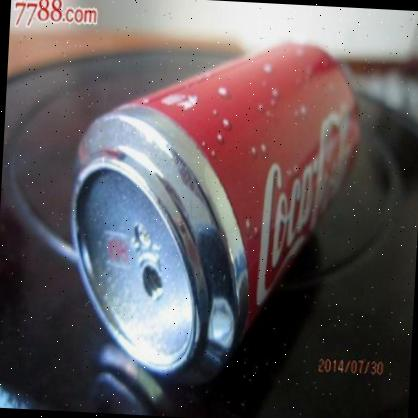can: (67, 27, 366, 386)
